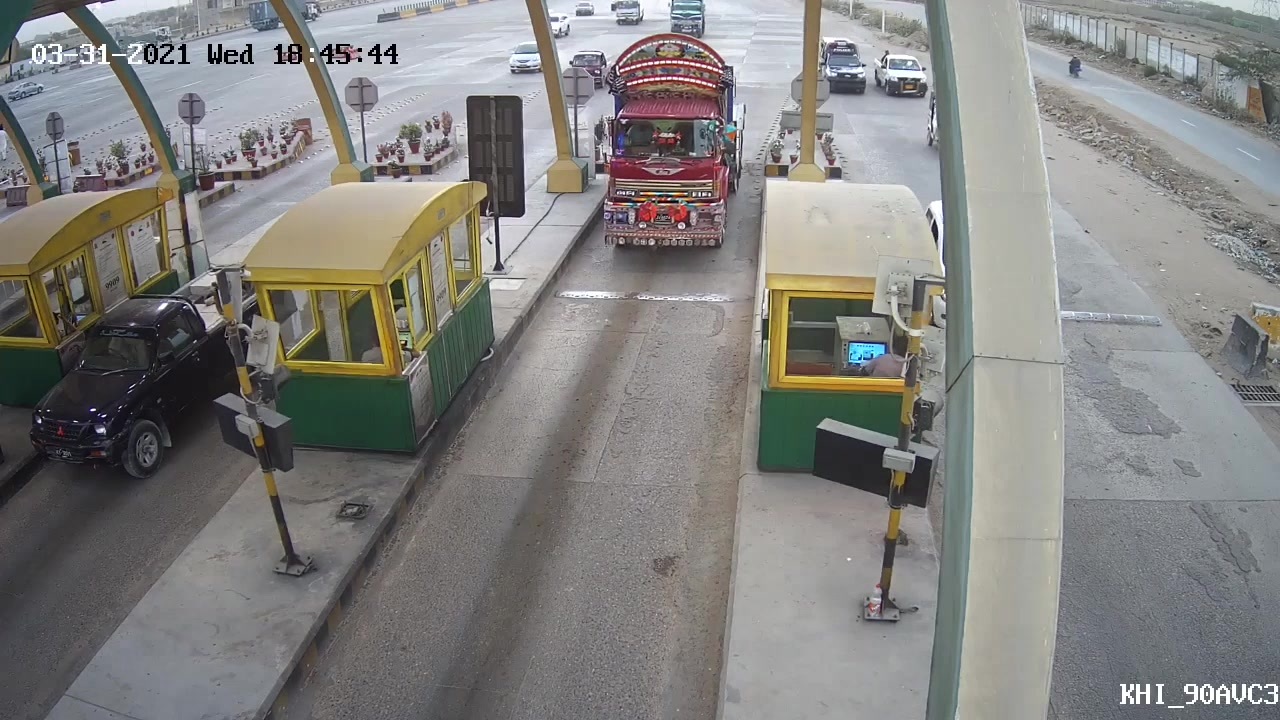F5: (561, 22, 756, 261)
